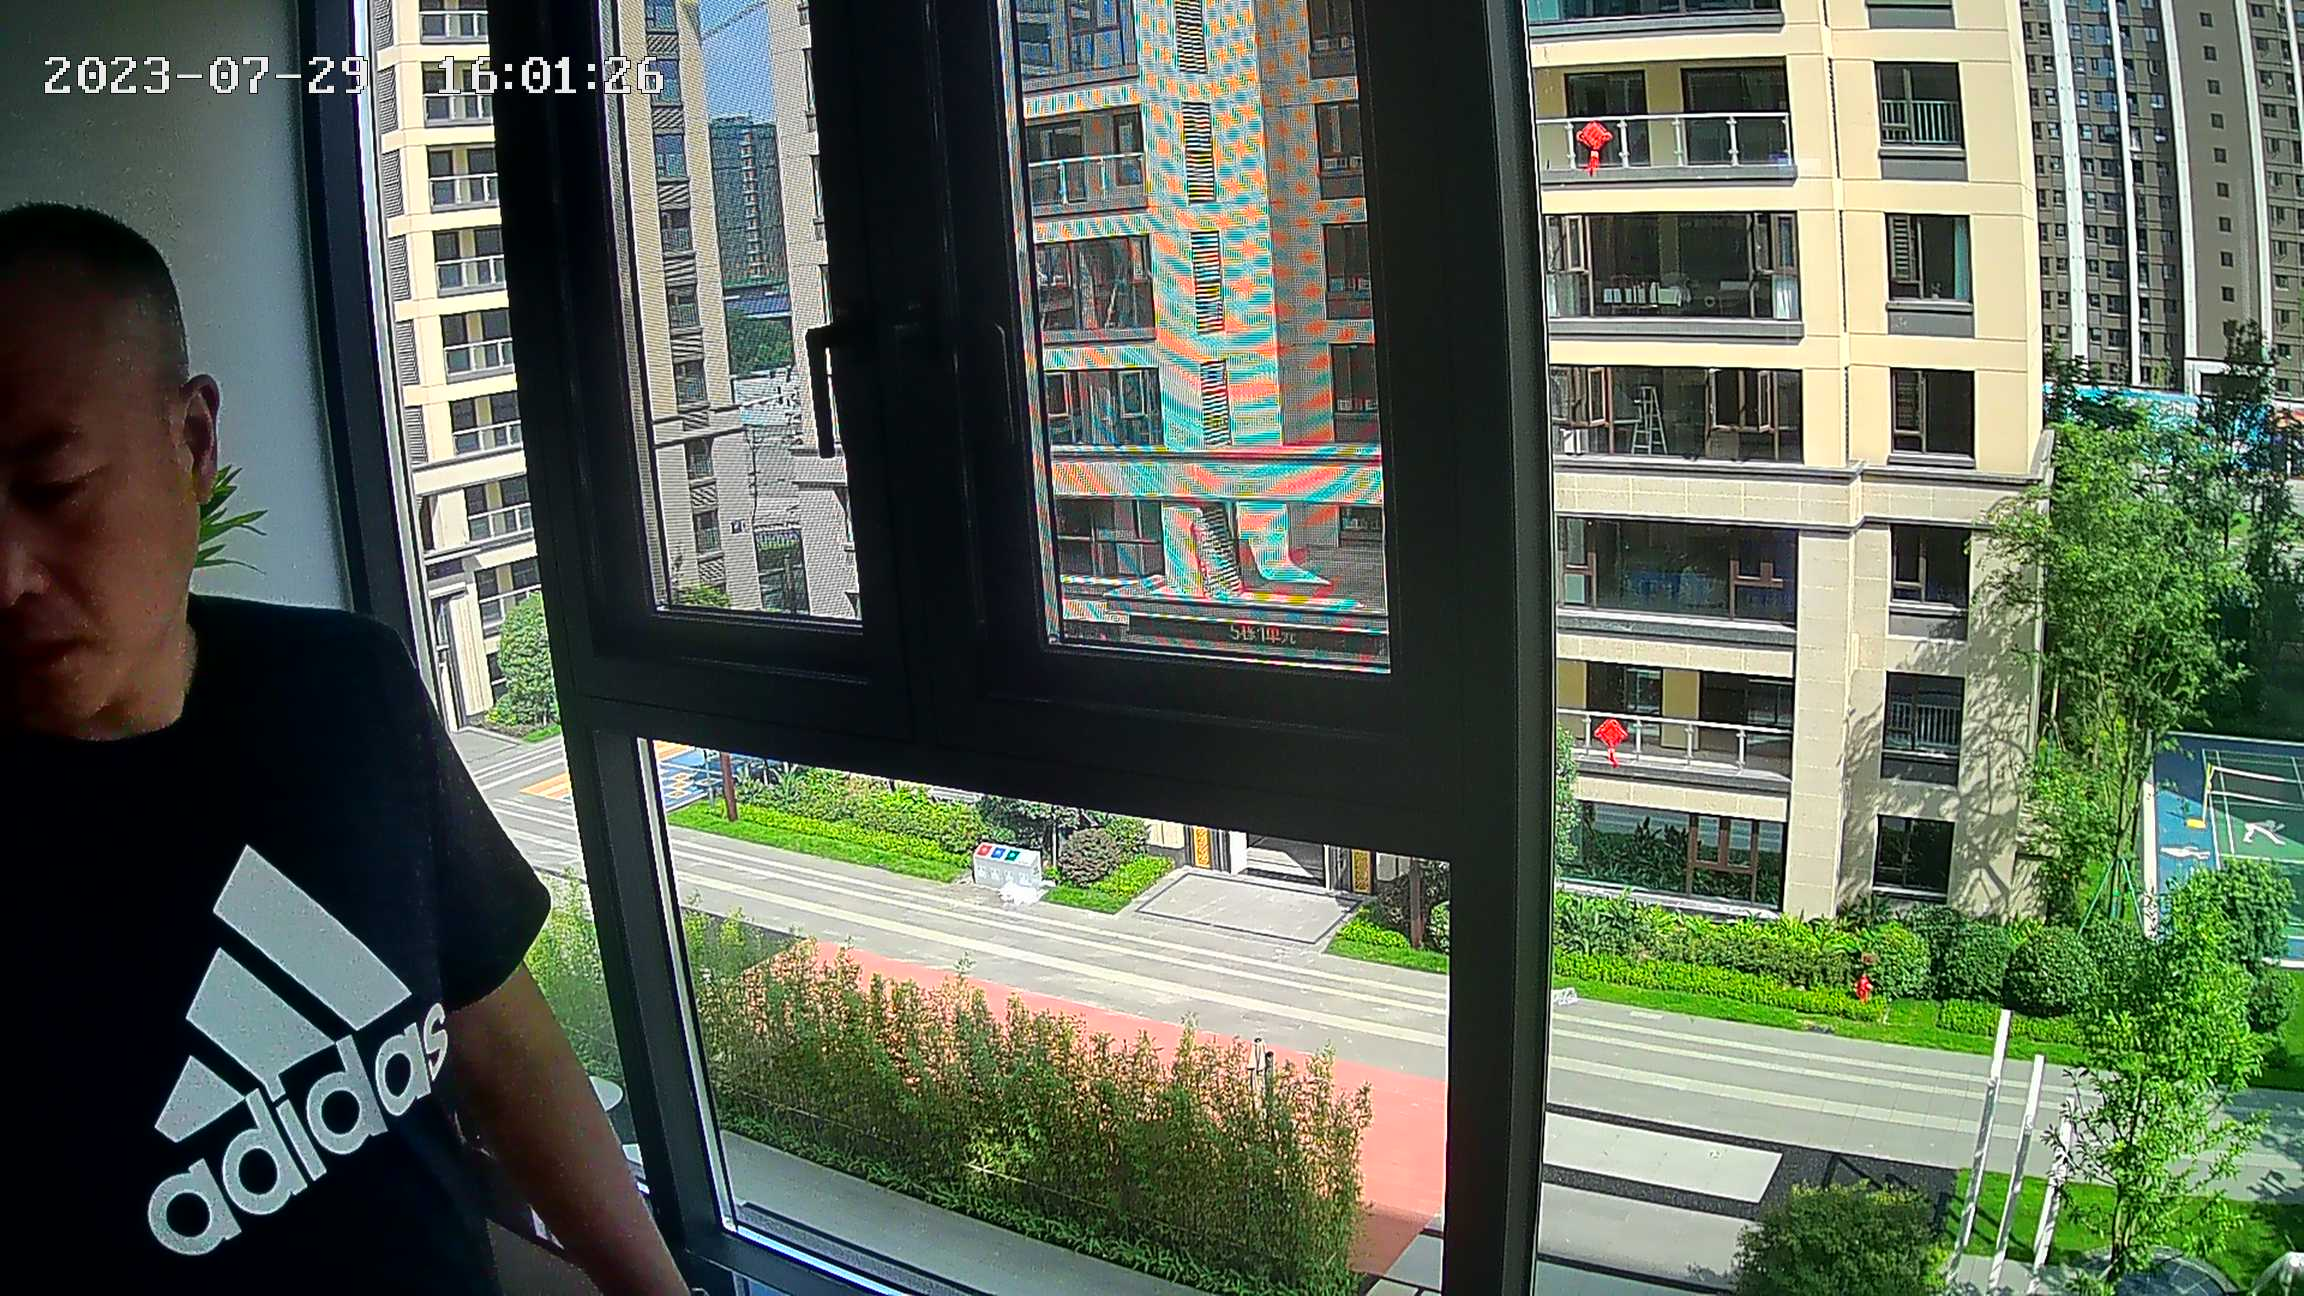people: (9, 204, 684, 1296)
window: (353, 3, 2303, 1296)
